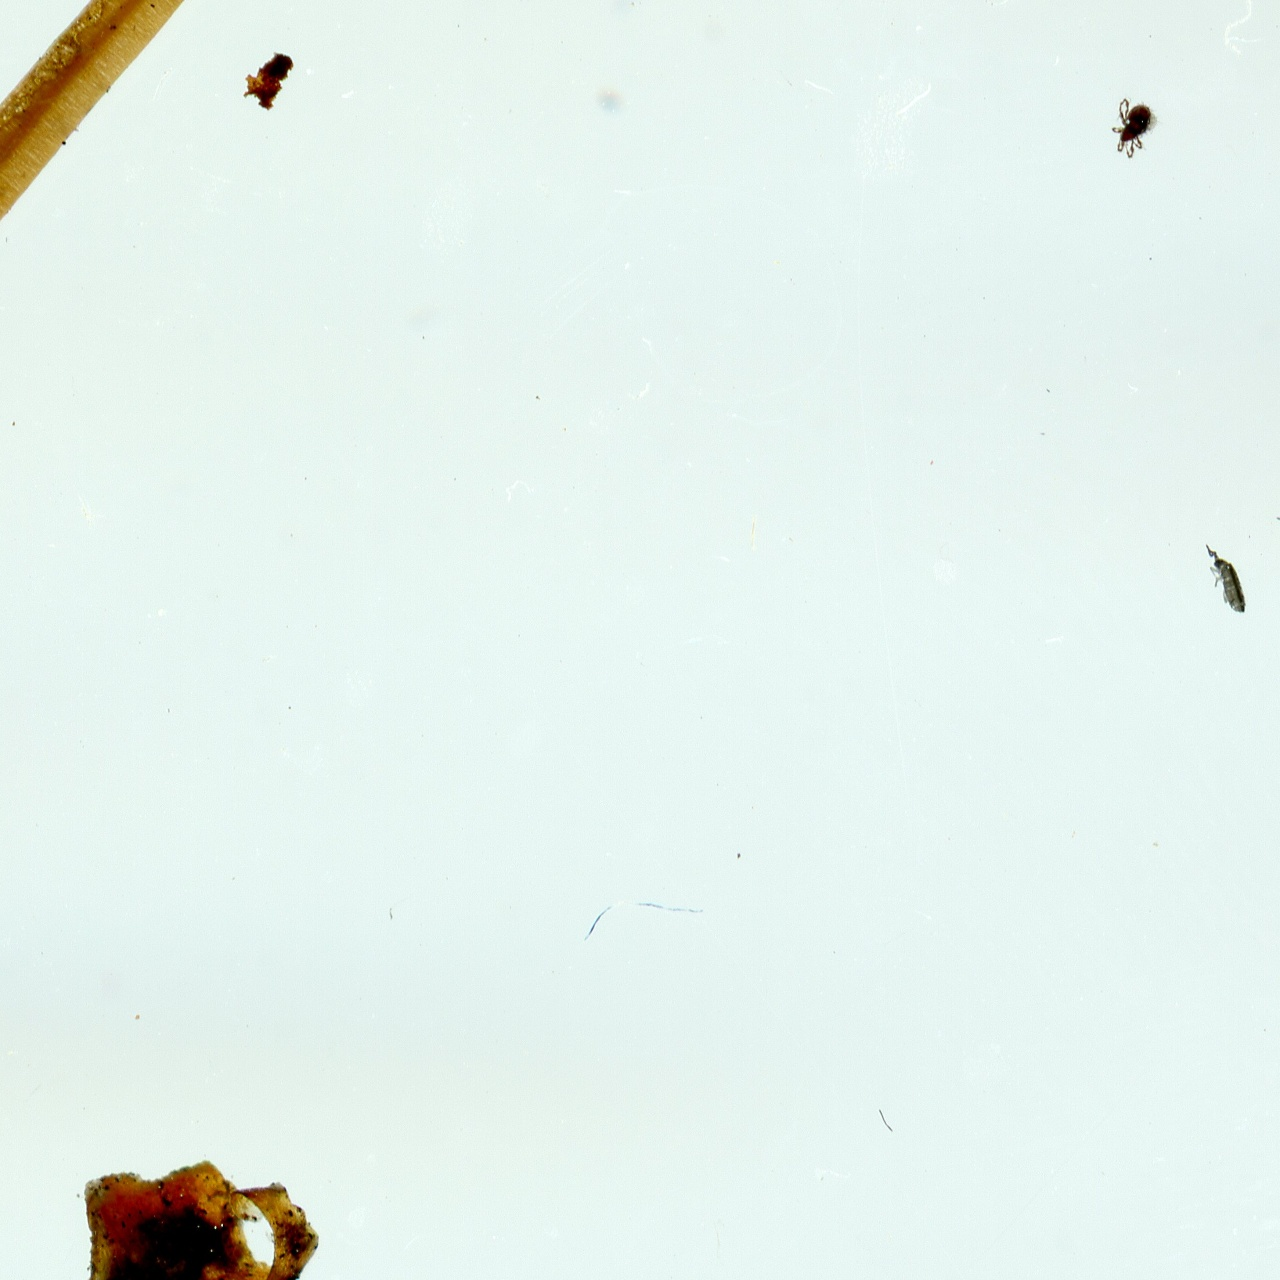arthropod: (1203, 542, 1251, 619), (1111, 97, 1162, 161)
